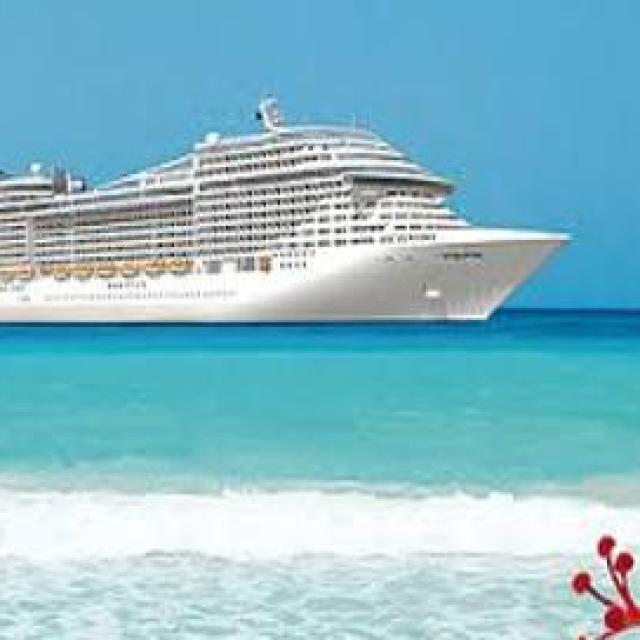passenger ship: (0, 111, 567, 320)
